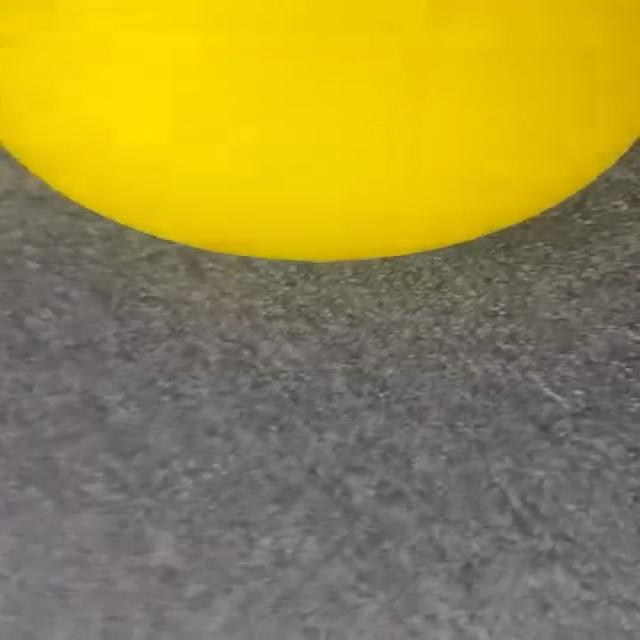Fuels: (2, 0, 636, 259)
